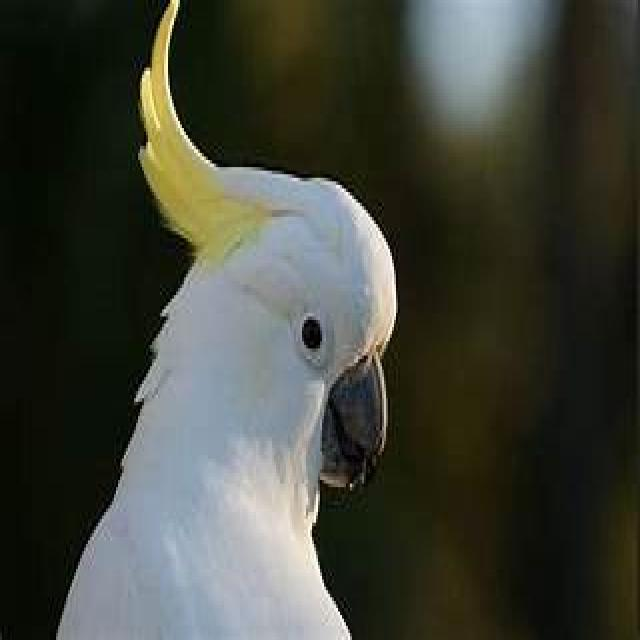Kakatua Putih: (43, 0, 414, 640)
